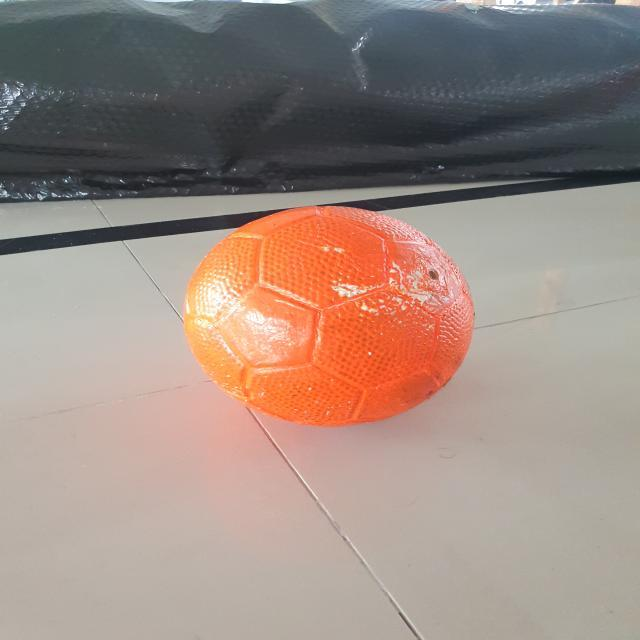bola: (172, 193, 474, 427)
